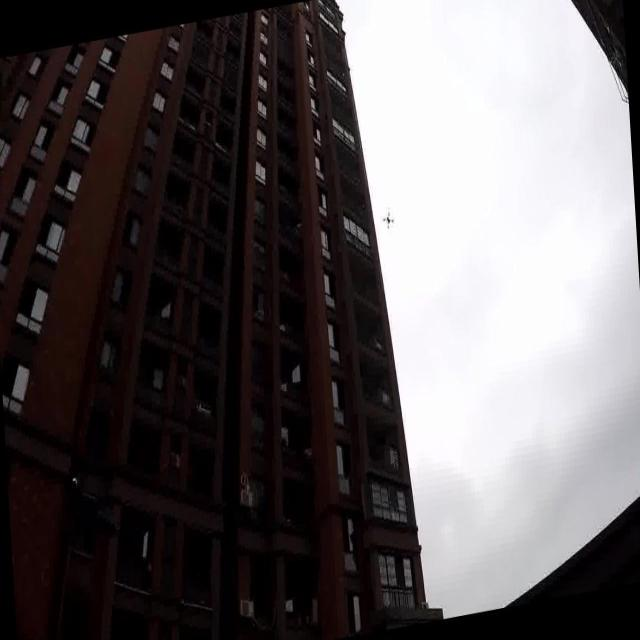drone: (379, 206, 395, 237)
